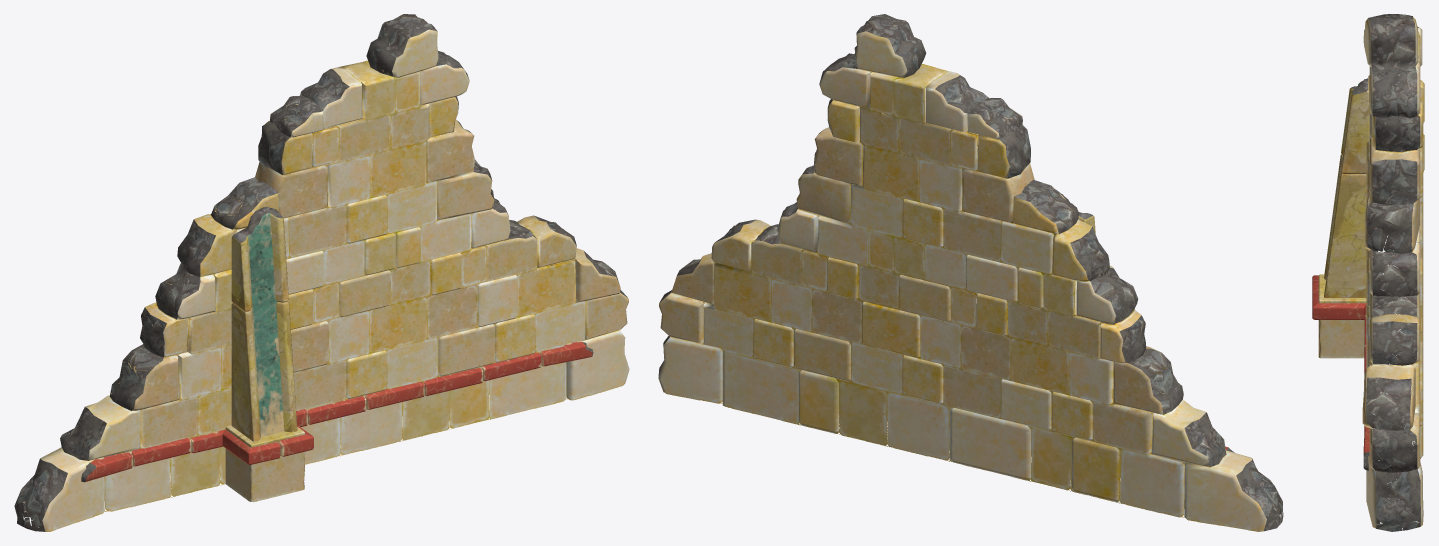
The picture shows the model from 3 angles, left to right: view 1: azimuth 30°, elevation 25°; view 2: azimuth 150°, elevation 25°; view 3: azimuth 270°, elevation 25°; orthographic projection.
Parts seen in each view (by area): view 1: SM_Menaphite_Ruins_08_LOD0; view 2: SM_Menaphite_Ruins_08_LOD0; view 3: SM_Menaphite_Ruins_08_LOD0.
Boxes of the visible parts, bbox=[...] form: SM_Menaphite_Ruins_08_LOD0: bbox=[14, 14, 629, 531]; SM_Menaphite_Ruins_08_LOD0: bbox=[658, 14, 1283, 531]; SM_Menaphite_Ruins_08_LOD0: bbox=[1312, 14, 1424, 531].
Bounding box in the file's own units: 13.87 × 8.91 × 2.22.
5 materials, 5 textured.
